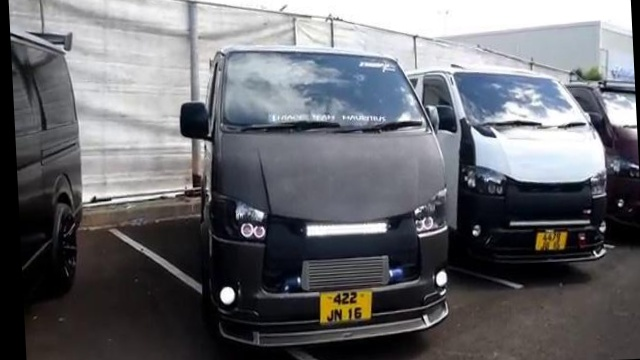van: (187, 33, 460, 360), (408, 52, 614, 286)
